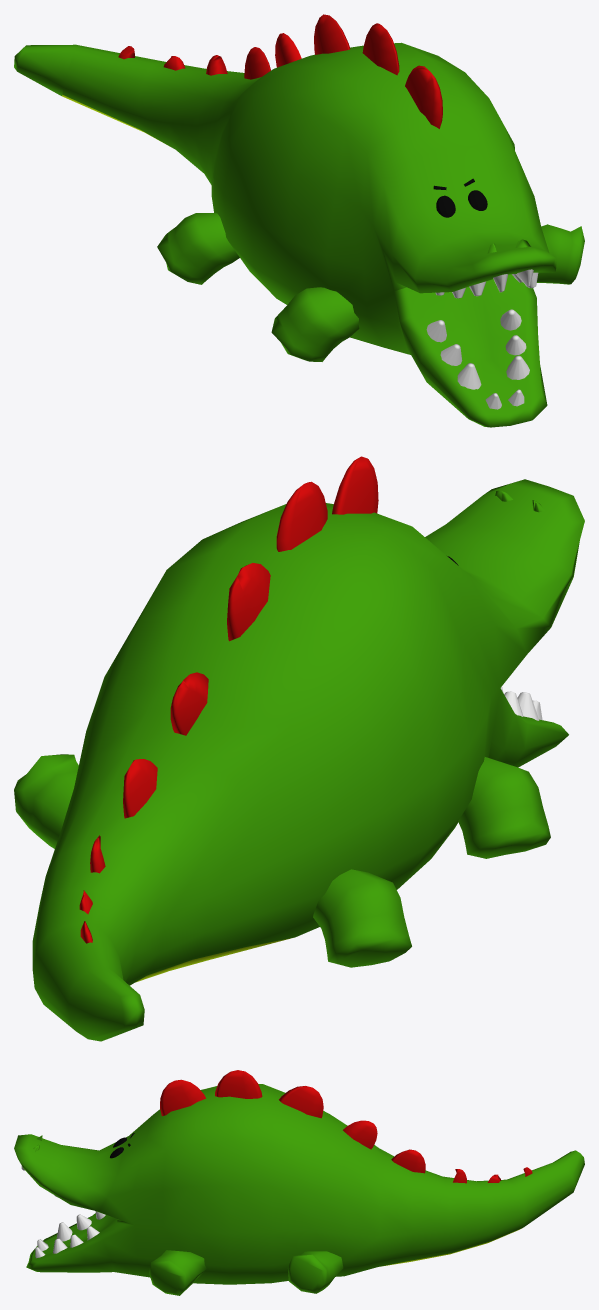
The model's file is EnemyNatureCrocodileLow.fbx.
The picture shows the model from 3 angles, top to bottom: view 1: azimuth 30°, elevation 25°; view 2: azimuth 150°, elevation 25°; view 3: azimuth 270°, elevation 25°; orthographic projection. The views are drawn at different scales.
Visible parts, largest first — view 1: Crocodile5; view 2: Crocodile5; view 3: Crocodile5.
Boxes of the visible parts, x1,y1,x2,y2 form: Crocodile5: [14, 14, 584, 427]; Crocodile5: [14, 456, 584, 1041]; Crocodile5: [14, 1070, 584, 1295].
Bounding box in the file's own units: 3.94 × 3.59 × 9.17.
